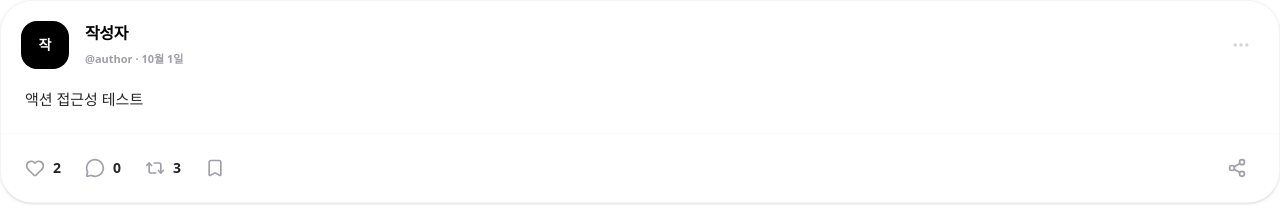
Test: card action accessibility › keeps the repost name fixed while state, count and API method toggle
Click the button named "리포스트" at x=163, y=168, box [145,158,181,178]
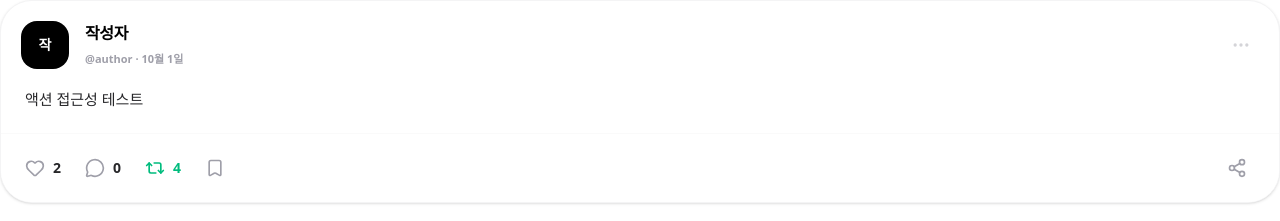
Expected: the button named "리포스트" reads "4"
Click the button named "리포스트" at x=163, y=168, box [145,158,181,178]
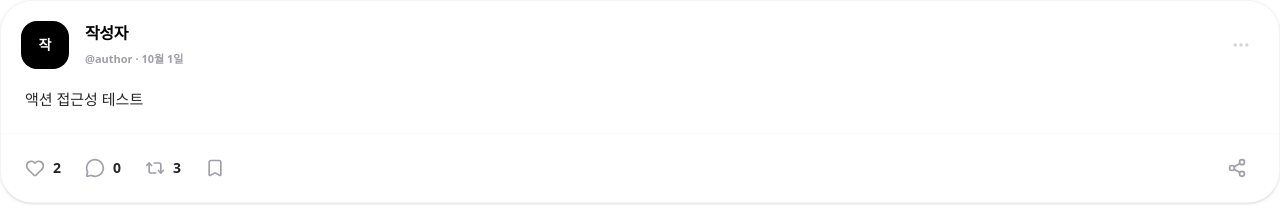
Expected: the button named "리포스트" reads "3", [145,158,181,178]
